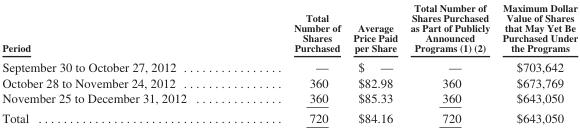table: (1, 1, 577, 124)
table column: (1, 1, 239, 124), (239, 1, 346, 124), (403, 1, 495, 124), (495, 1, 577, 124), (346, 1, 403, 124)
table column header: (1, 1, 577, 56)
table row: (1, 1, 577, 56), (1, 56, 577, 74), (1, 89, 577, 107), (1, 107, 577, 124), (1, 74, 577, 89)
